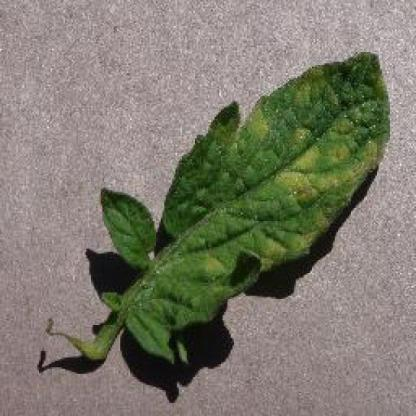Tomato_Leaf_Mold: (165, 49, 390, 304)
